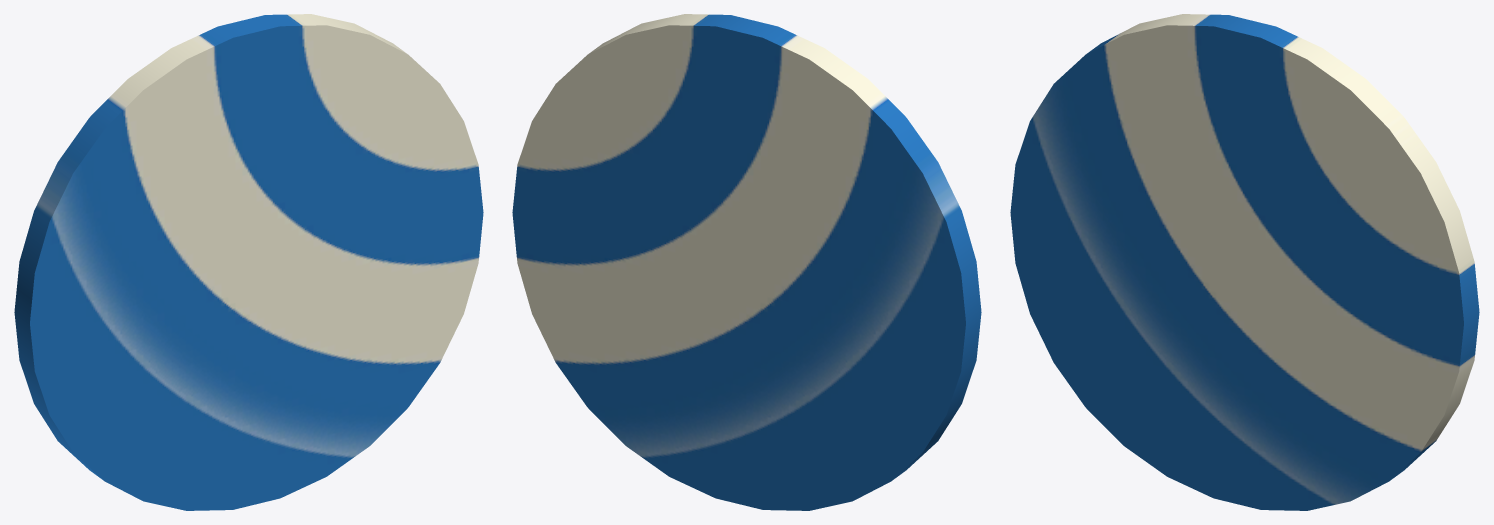
The model's file is tns_mato__tns_mato_a.glb.
3 renders of one model, left to right at view 1: azimuth 30°, elevation 25°; view 2: azimuth 150°, elevation 25°; view 3: azimuth 330°, elevation 25°, orthographic.
Parts seen in each view (by area): view 1: polygon0; view 2: polygon0; view 3: polygon0.
Part boxes in pixels (x1,y1,x2,y2): polygon0: (14,14,483,510); polygon0: (512,14,981,510); polygon0: (1010,14,1479,510).
Bounding box in the file's own units: 34 × 33.81 × 2.
Materials: 1 (1 with a texture image).
